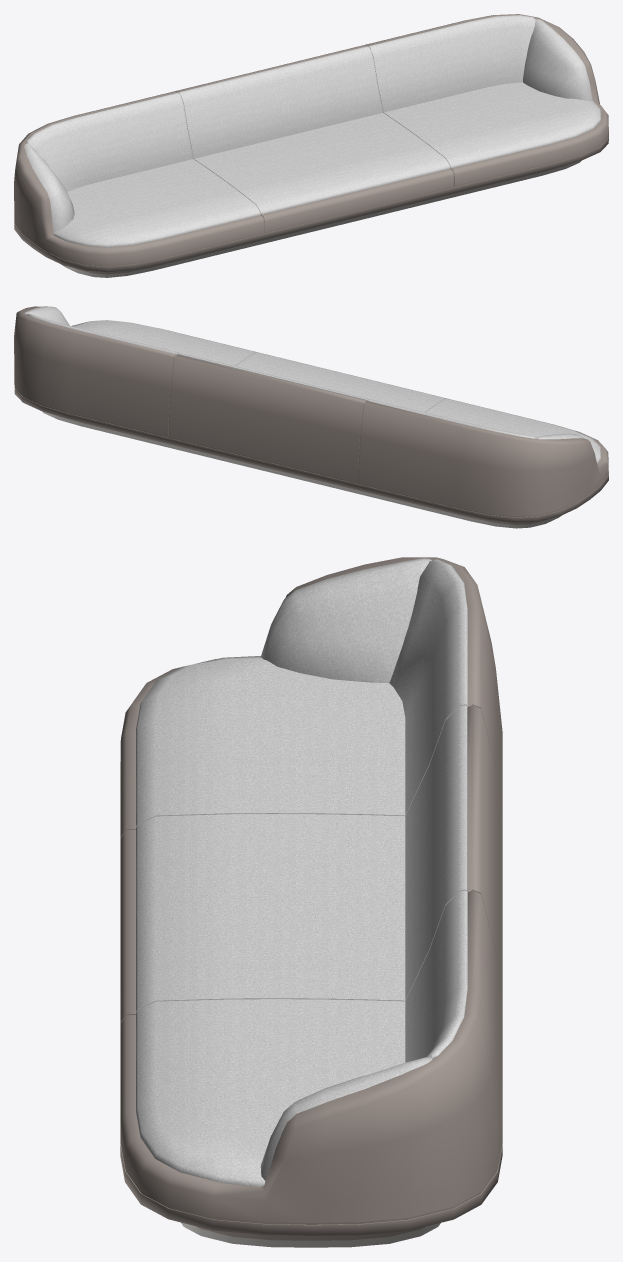
File: MOb_Bench_003.fbx
3 views of the same model, one above another, from view 1: azimuth 30°, elevation 25°; view 2: azimuth 150°, elevation 25°; view 3: azimuth 270°, elevation 25° (orthographic). The views are drawn at different scales.
Parts seen in each view (by area): view 1: MOb_Bench_003; view 2: MOb_Bench_003; view 3: MOb_Bench_003.
Part boxes in pixels (bbox=[...]): MOb_Bench_003: bbox=[14, 14, 608, 277]; MOb_Bench_003: bbox=[14, 306, 608, 528]; MOb_Bench_003: bbox=[120, 557, 502, 1247].
Size of the model in its own units: 3 by 0.5113 by 0.8911.
